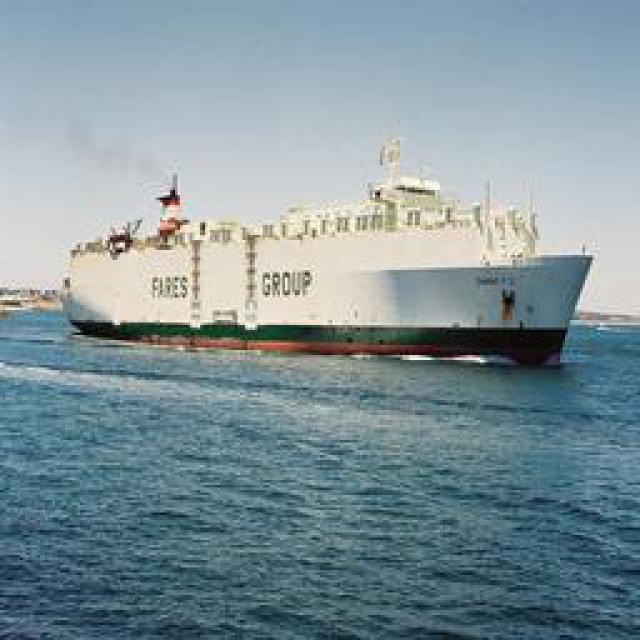Ship: (50, 143, 598, 368)
